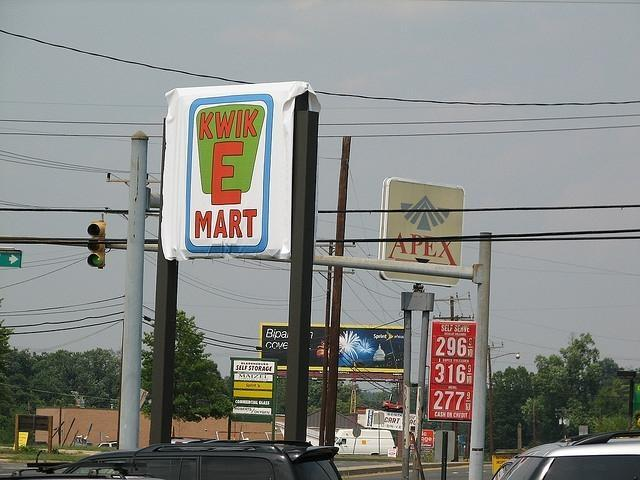car: (1, 440, 352, 475), (490, 430, 640, 480), (334, 430, 398, 456)
